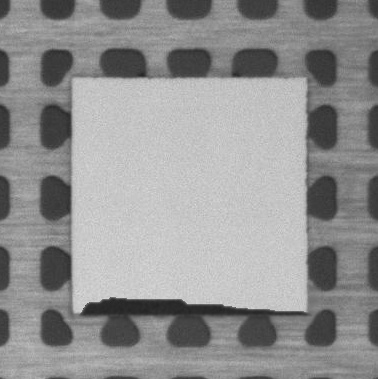DIE_BROKEN: (83, 291, 310, 318)
